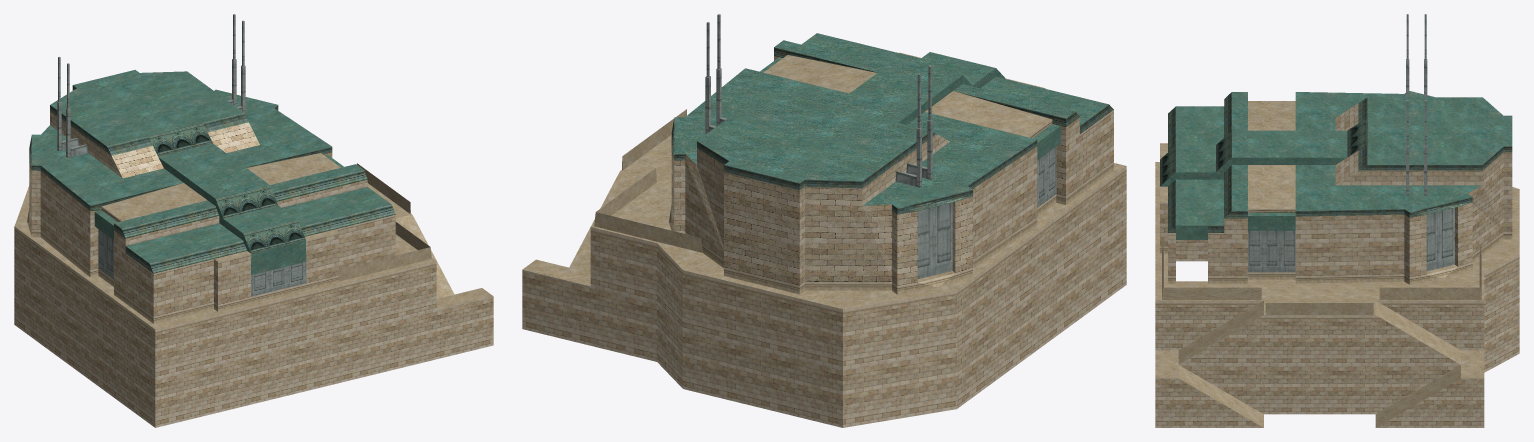
File: ply_nboo_hospital_s01_r0_exterior_mesh_l1.fbx
3 renders of one model, left to right at view 1: azimuth 30°, elevation 25°; view 2: azimuth 150°, elevation 25°; view 3: azimuth 270°, elevation 25°, orthographic. The views are drawn at different scales.
Parts seen in each view (by area): view 1: mesh_node; view 2: mesh_node; view 3: mesh_node.
Part boxes in pixels (left/top/right/bottom): mesh_node: left=14, top=14, right=493, bottom=427; mesh_node: left=522, top=14, right=1126, bottom=427; mesh_node: left=1155, top=14, right=1519, bottom=427.
Size of the model in its own units: 24.65 by 18.35 by 22.78.
